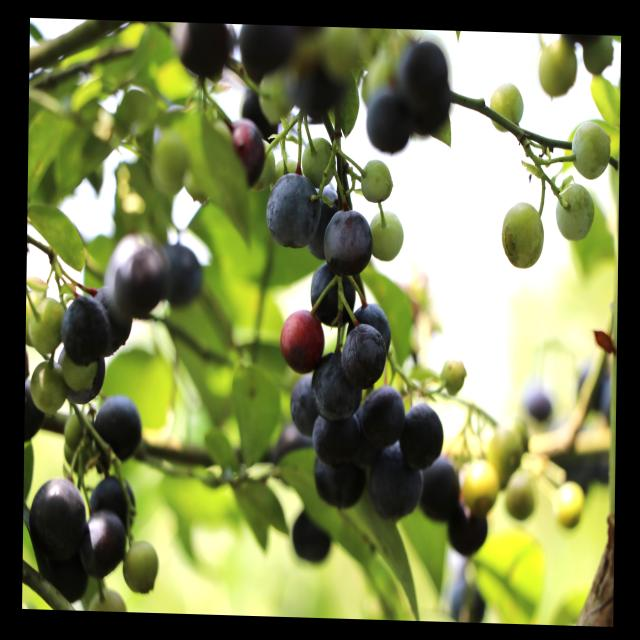blueberry: (109, 232, 171, 319), (263, 165, 322, 255), (93, 386, 148, 466), (370, 447, 429, 521), (27, 479, 86, 552), (59, 293, 114, 365), (320, 204, 375, 272), (396, 400, 445, 471), (306, 259, 356, 327), (306, 403, 362, 462), (75, 510, 127, 573), (309, 349, 356, 417), (314, 456, 368, 514), (340, 322, 387, 386), (363, 91, 411, 153), (360, 383, 403, 444), (422, 460, 462, 523), (447, 499, 491, 554), (288, 370, 320, 431)
blueberry-halfripe: (278, 307, 326, 368)
blueberry-unripe: (532, 34, 583, 110), (551, 175, 598, 252), (498, 200, 547, 273), (569, 120, 612, 180), (366, 205, 406, 262), (31, 357, 67, 419), (28, 296, 66, 354), (298, 134, 338, 188), (122, 536, 159, 592), (490, 80, 525, 136), (358, 156, 393, 203)
